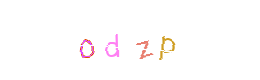0: (64, 0, 144, 80)
D: (90, 0, 170, 80)
P: (101, 0, 181, 80)
Z: (101, 0, 181, 80)
